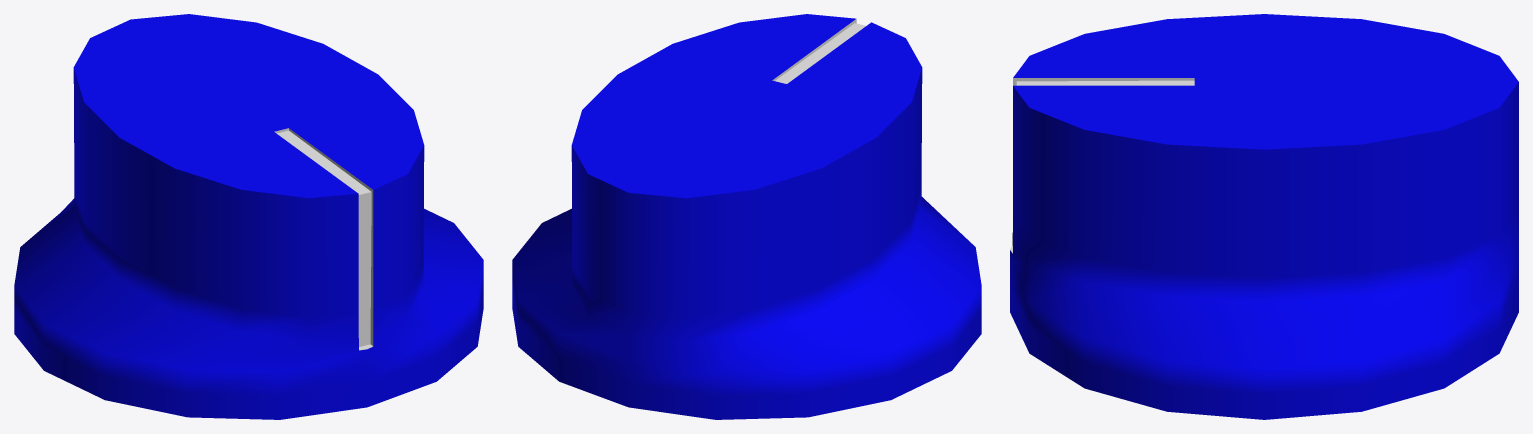
File: nobx.glb
3 views of the same model, side by side, from view 1: azimuth 30°, elevation 25°; view 2: azimuth 150°, elevation 25°; view 3: azimuth 270°, elevation 25° (orthographic). The views are drawn at different scales.
Parts seen in each view (by area): view 1: Nob2; view 2: Nob2; view 3: Nob2.
Boxes of the visible parts, <box> form: Nob2: <box>14,14,483,419</box>; Nob2: <box>512,14,981,419</box>; Nob2: <box>1010,14,1518,419</box>.
Bounding box in the file's own units: 0.6 × 0.3 × 0.6.
